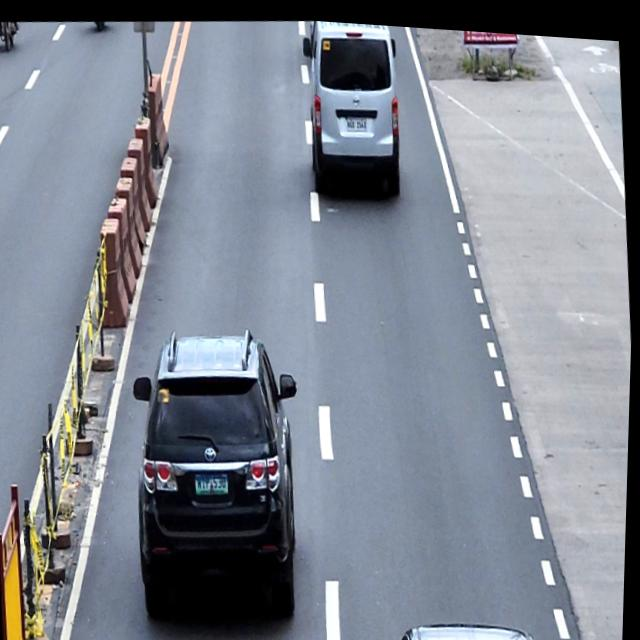Car: (125, 314, 316, 625), (293, 16, 406, 196), (393, 605, 548, 640)
License-Plate: (195, 465, 233, 495), (346, 110, 368, 128)
Tricycle: (0, 20, 20, 53)
